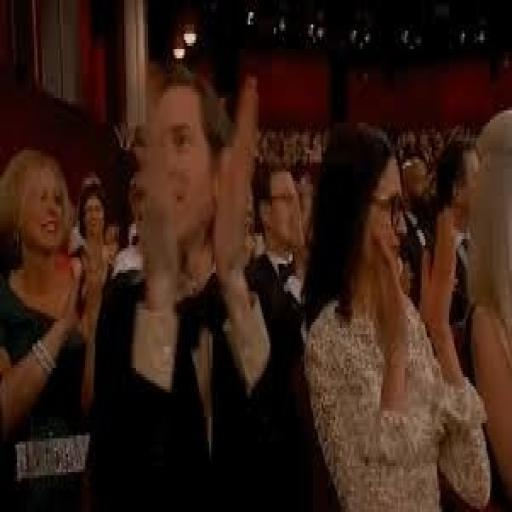clapping: (90, 44, 304, 507), (300, 120, 494, 509), (0, 113, 148, 512)
